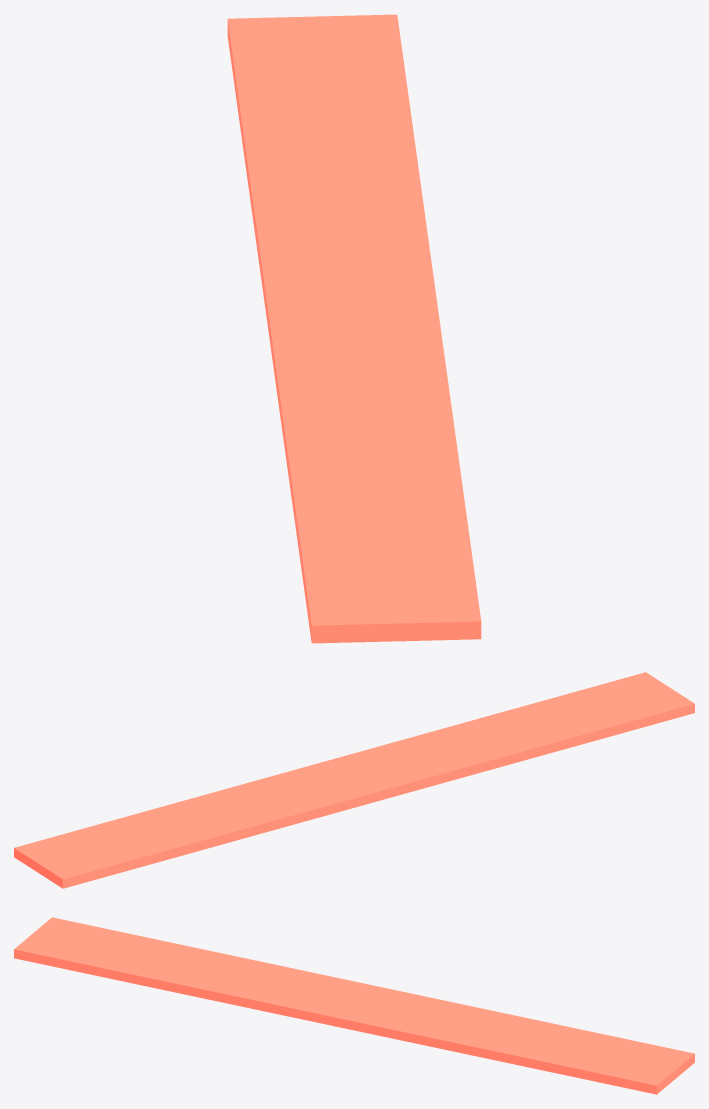
File: la-port-zone-c5-water-geofence-v1.glb
3 views of the same model, one above another, from view 1: azimuth 30°, elevation 25°; view 2: azimuth 150°, elevation 25°; view 3: azimuth 270°, elevation 25° (orthographic). The views are drawn at different scales.
Visible parts, largest first — view 1: Water Geofence; view 2: Water Geofence; view 3: Water Geofence.
Part boxes in pixels (x1,y1,x2,y2): Water Geofence: (227, 14, 481, 643); Water Geofence: (14, 672, 694, 888); Water Geofence: (14, 917, 694, 1094).
Bounding box in the file's own units: 545 × 13.47 × 932.
